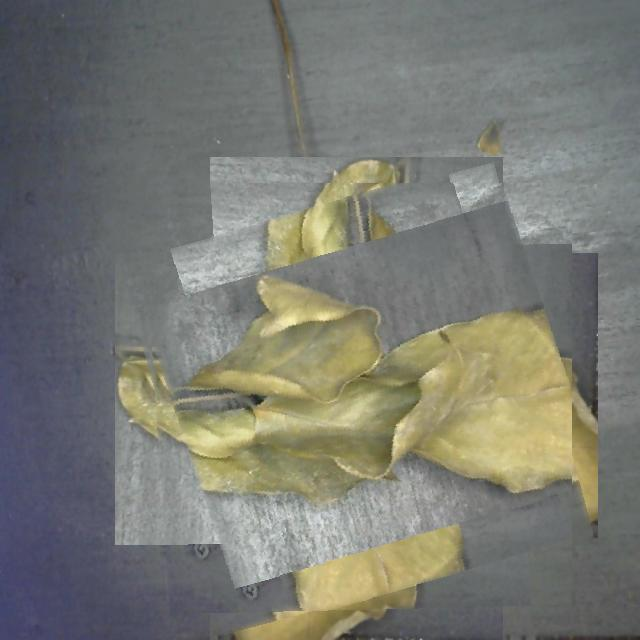biodegradable: (141, 183, 572, 614)
